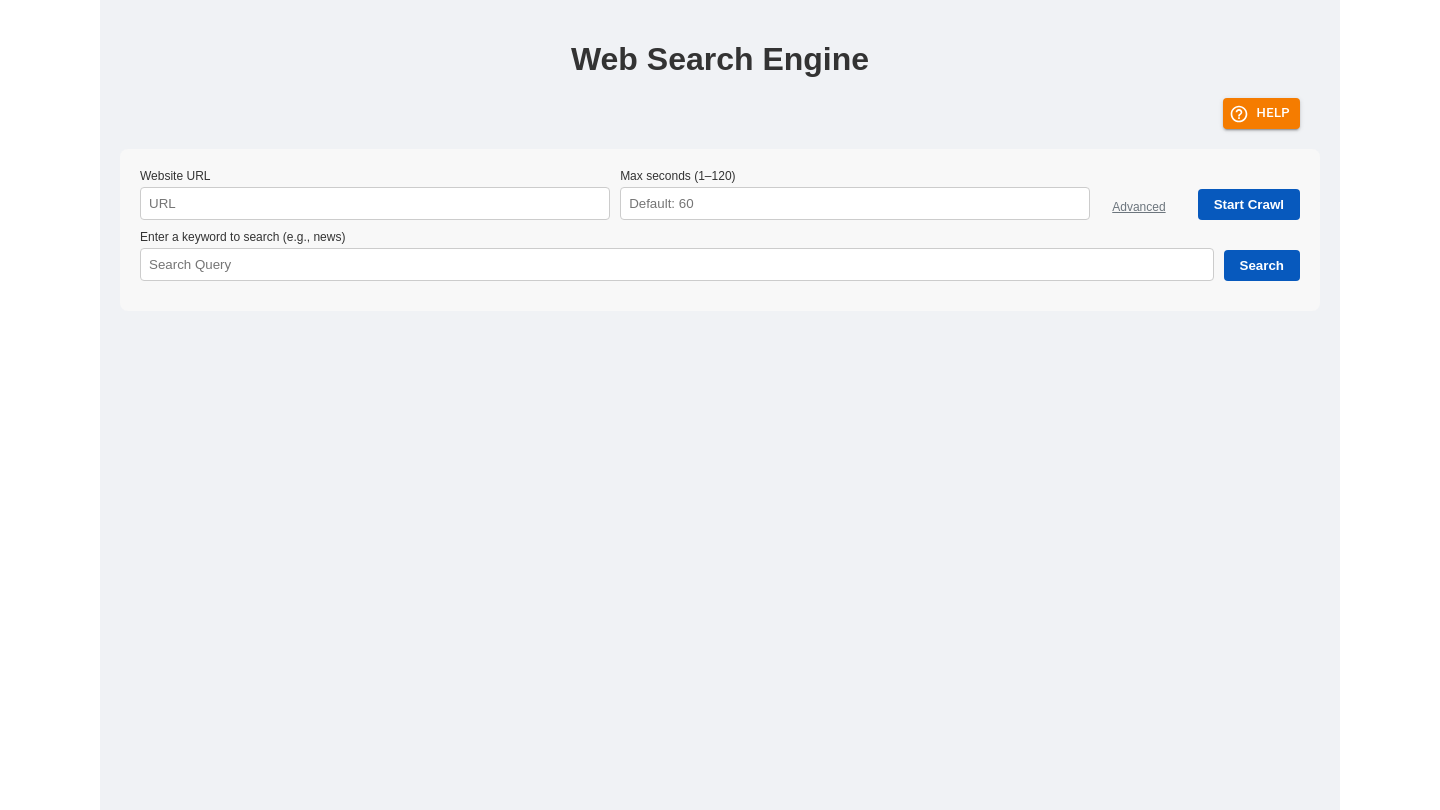
Scenario: shows an empty result after a successful search with no matches
Type "  no matches  " into the field labelled "Enter a keyword to search (e.g., news)".
click(677, 265); type("  no matches  ")  # box [140,248,1214,281]
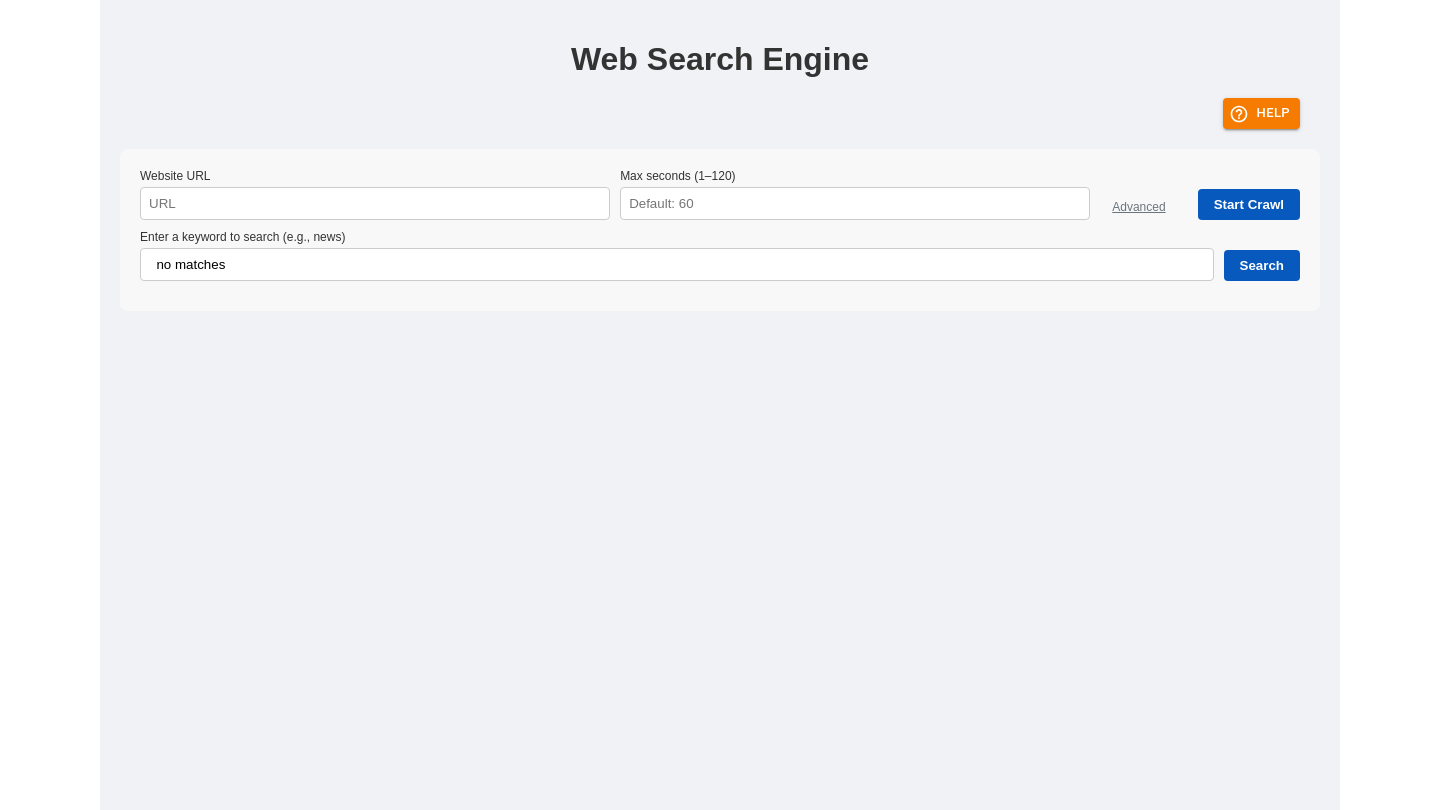
Click the button "Search".
click(1262, 266)  # box [1224,250,1300,281]
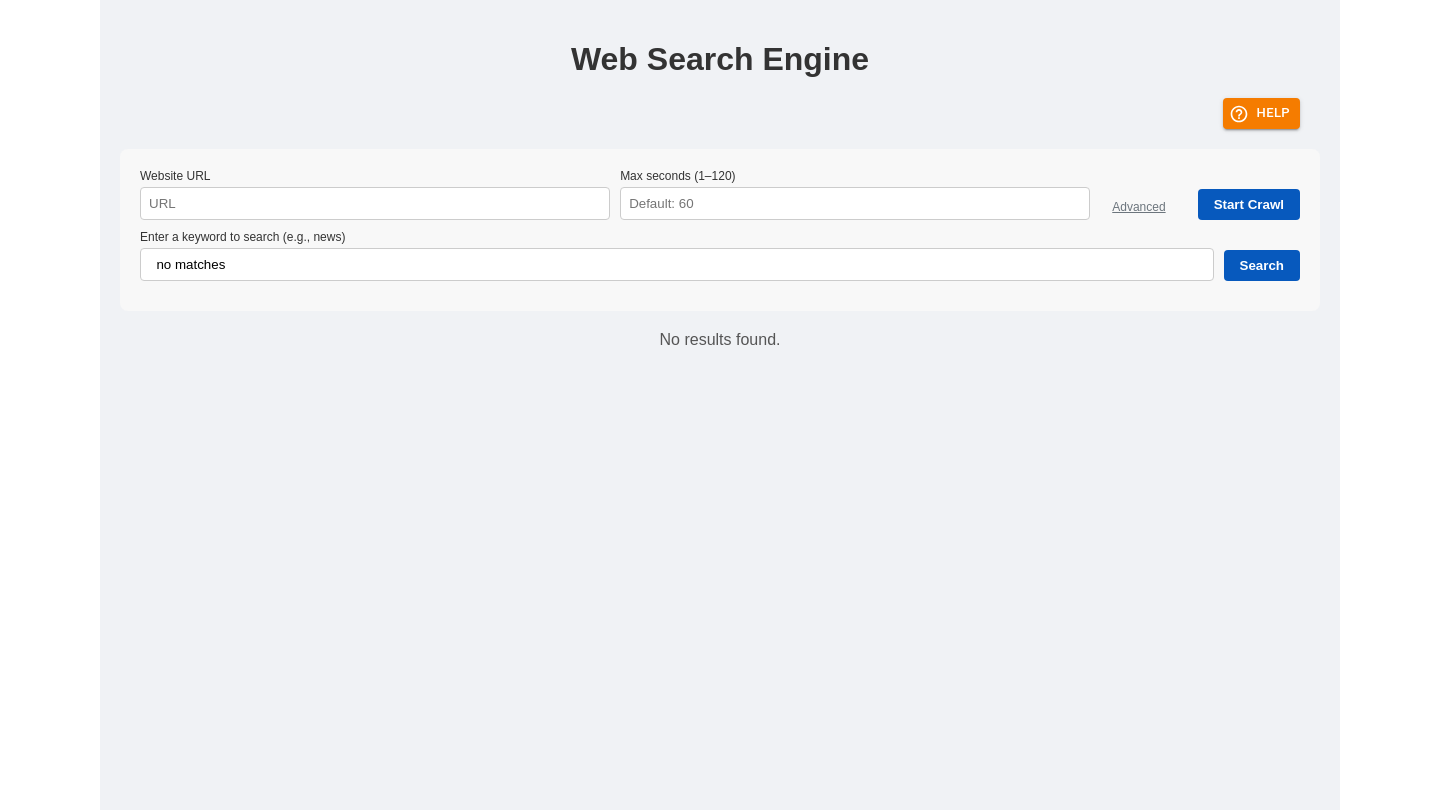
Expected: the text "No results found." is shown, [660,331,780,348]
